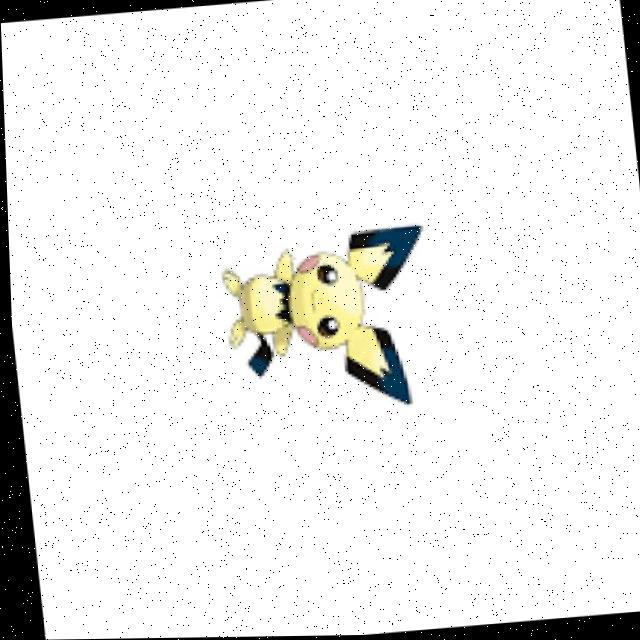pichu: (189, 210, 442, 424)
